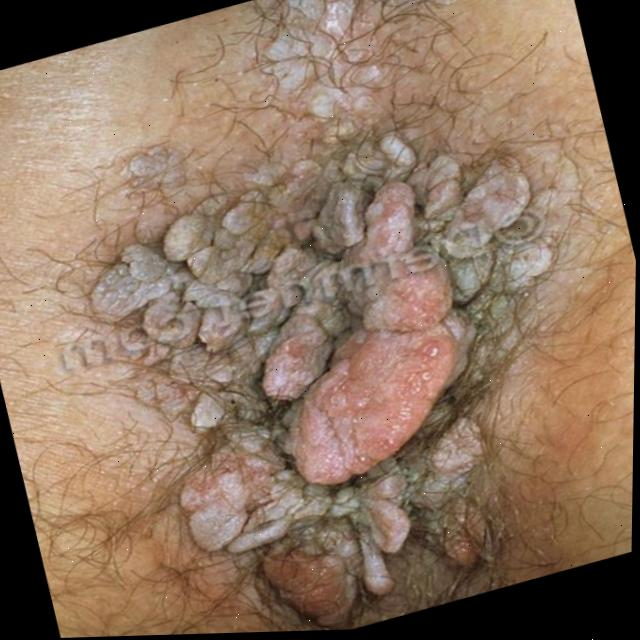Shingles: (81, 111, 606, 637)
